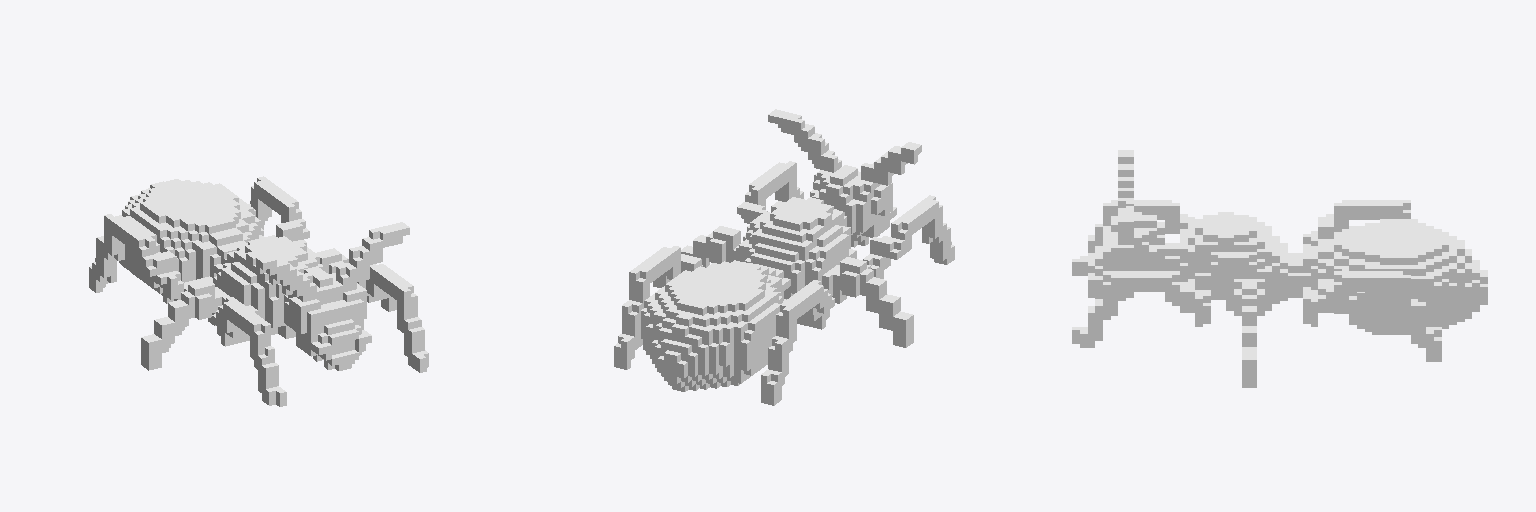
File: ant_walk_0.1-0.obj
3 views of the same model, side by side, from view 1: azimuth 30°, elevation 25°; view 2: azimuth 150°, elevation 25°; view 3: azimuth 270°, elevation 25° (orthographic).
Visible parts, largest first — view 1: object 1; view 2: object 1; view 3: object 1.
Part boxes in pixels (bbox=[...]): object 1: bbox=[89, 176, 428, 406]; object 1: bbox=[614, 109, 954, 405]; object 1: bbox=[1072, 150, 1487, 387].
Size of the model in its own units: 3.8 by 2 by 5.4.